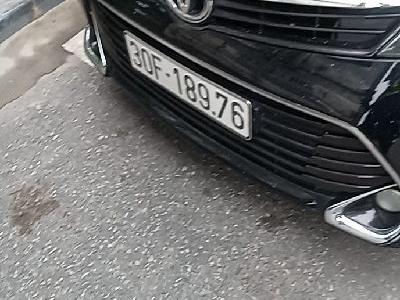lisence: (122, 26, 253, 143)
